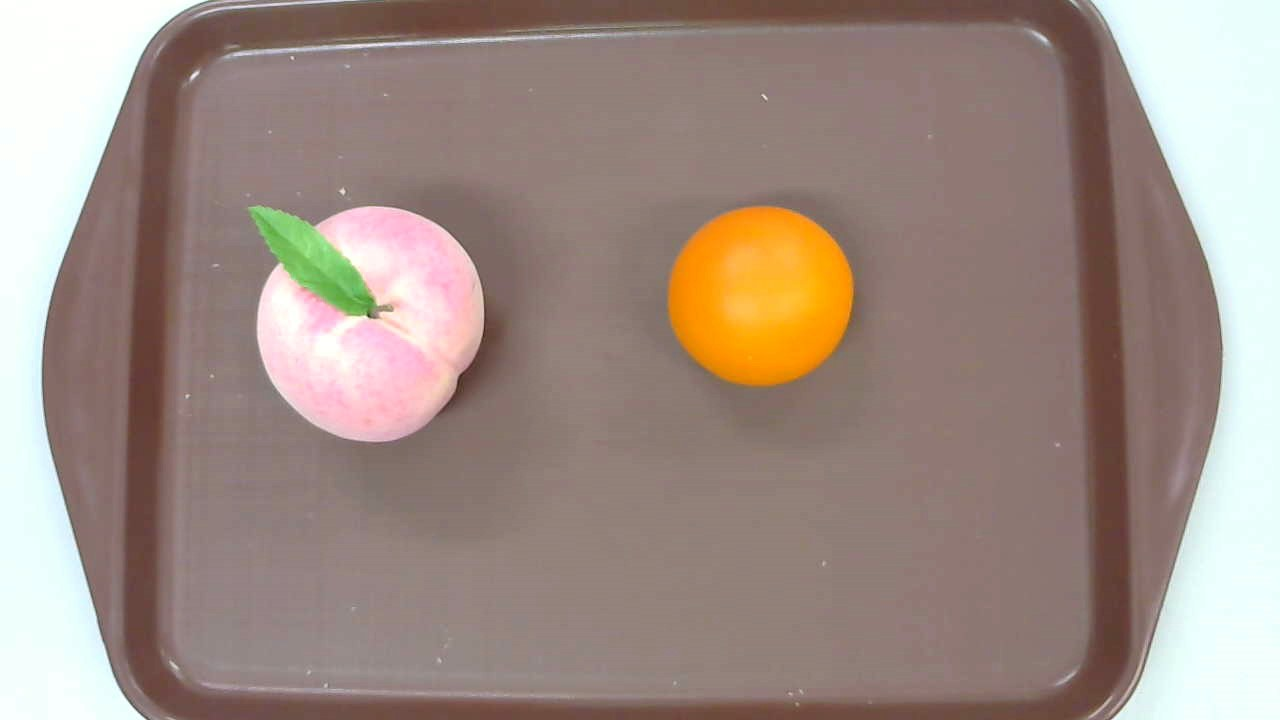bun: (665, 206, 856, 387)
peach: (244, 204, 484, 444)
